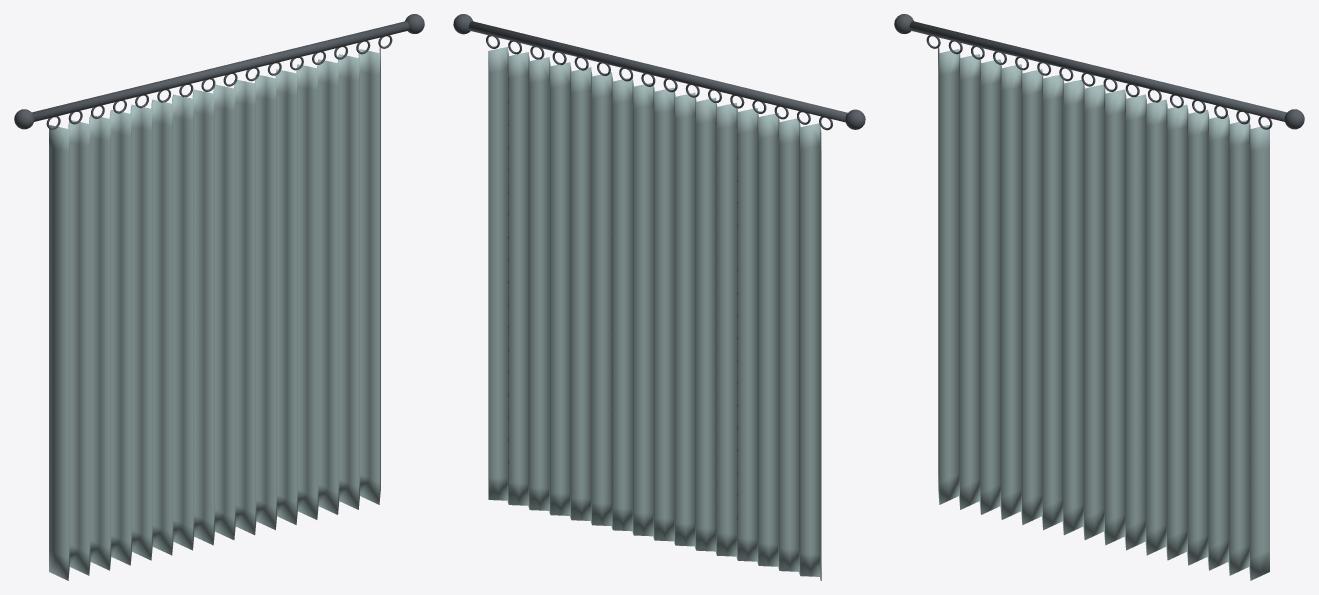
Rendered from atelier-single-curtain-panel.glb.
The picture shows the model from 3 angles, left to right: view 1: azimuth 30°, elevation 25°; view 2: azimuth 150°, elevation 25°; view 3: azimuth 330°, elevation 25°; orthographic projection.
Parts seen in each view (by area): view 1: fabric.045, metal.045; view 2: fabric.045, metal.045; view 3: fabric.045, metal.045.
Part boxes in pixels (x1=…): fabric.045: x1=49, y1=47, x2=380, y2=580; metal.045: x1=14, y1=14, x2=424, y2=129; fabric.045: x1=488, y1=47, x2=821, y2=580; metal.045: x1=453, y1=14, x2=865, y2=130; fabric.045: x1=938, y1=47, x2=1269, y2=580; metal.045: x1=894, y1=14, x2=1304, y2=129.
Size of the model in its own units: 2.09 by 2.34 by 0.0899.
